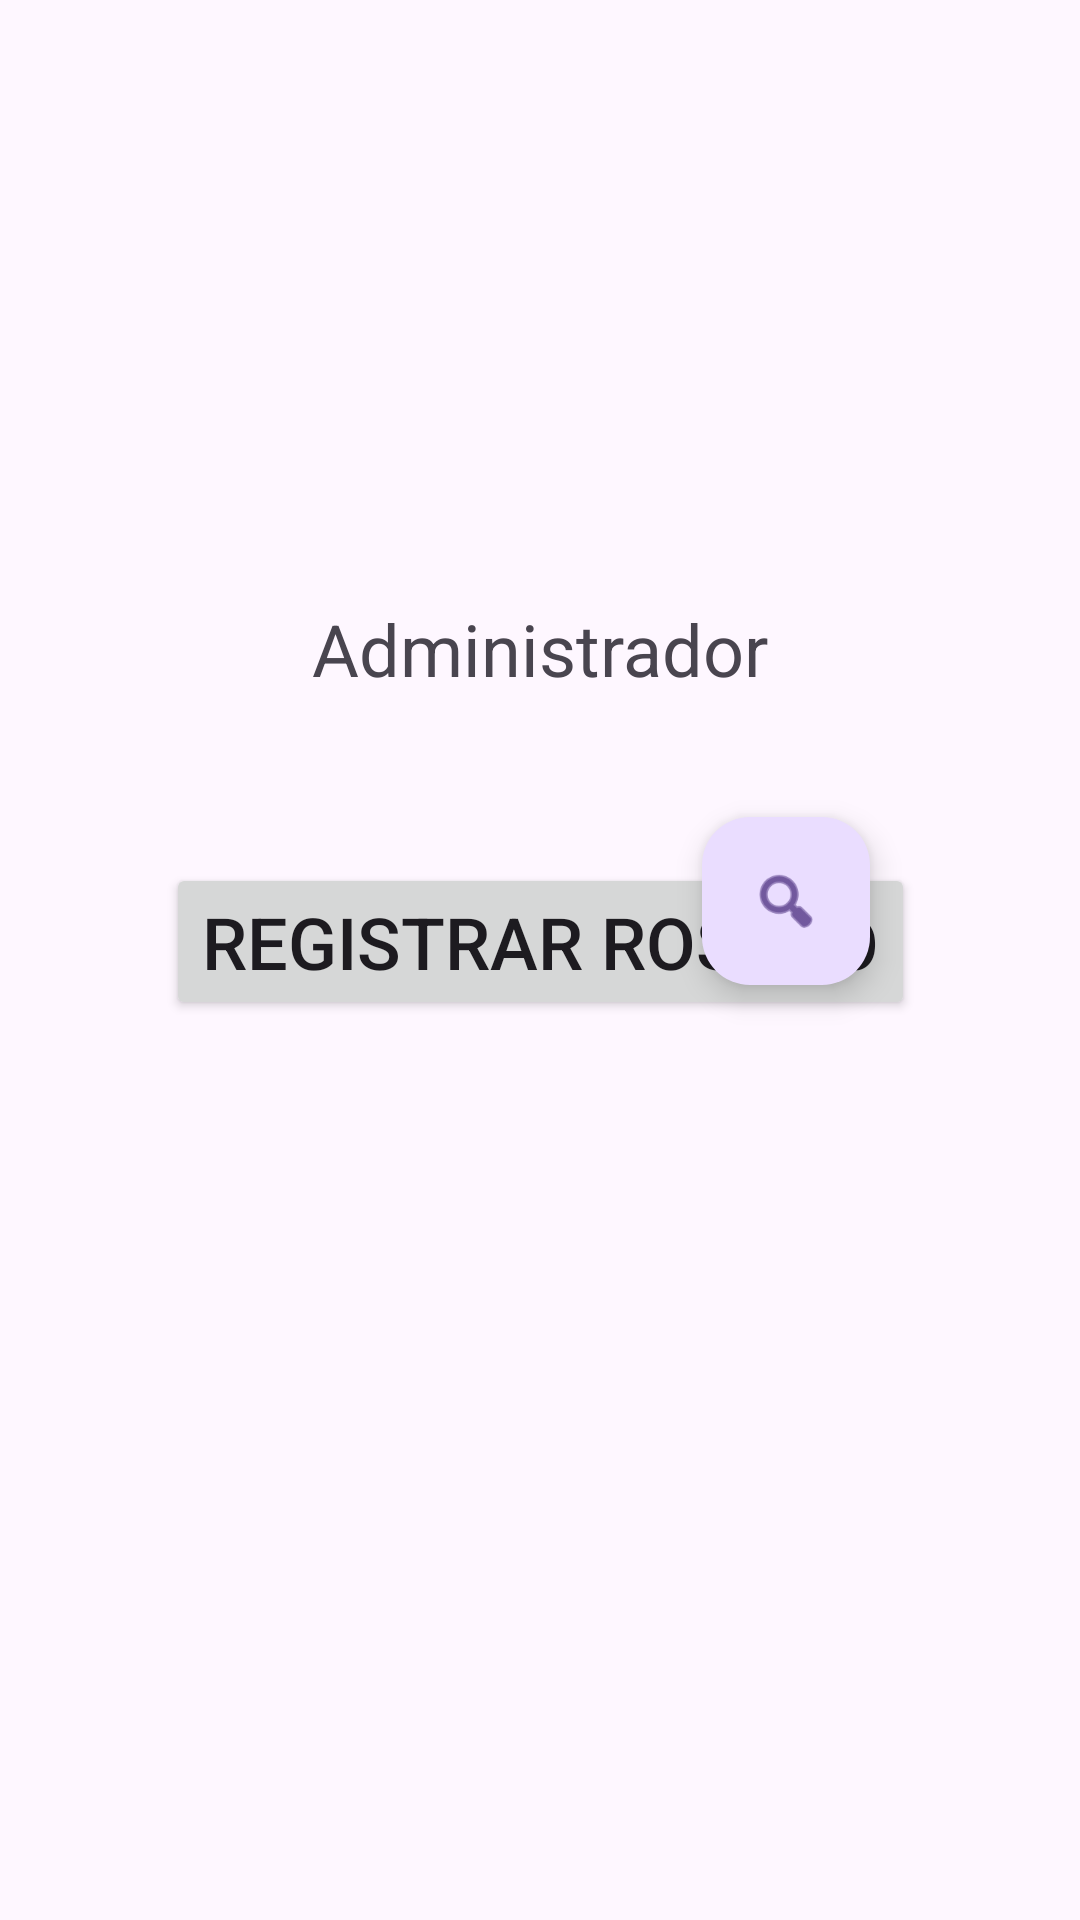

Point at icon controls on the screen. Image size 1080px x 1920px, points as (x,y).
search: (786,901)
